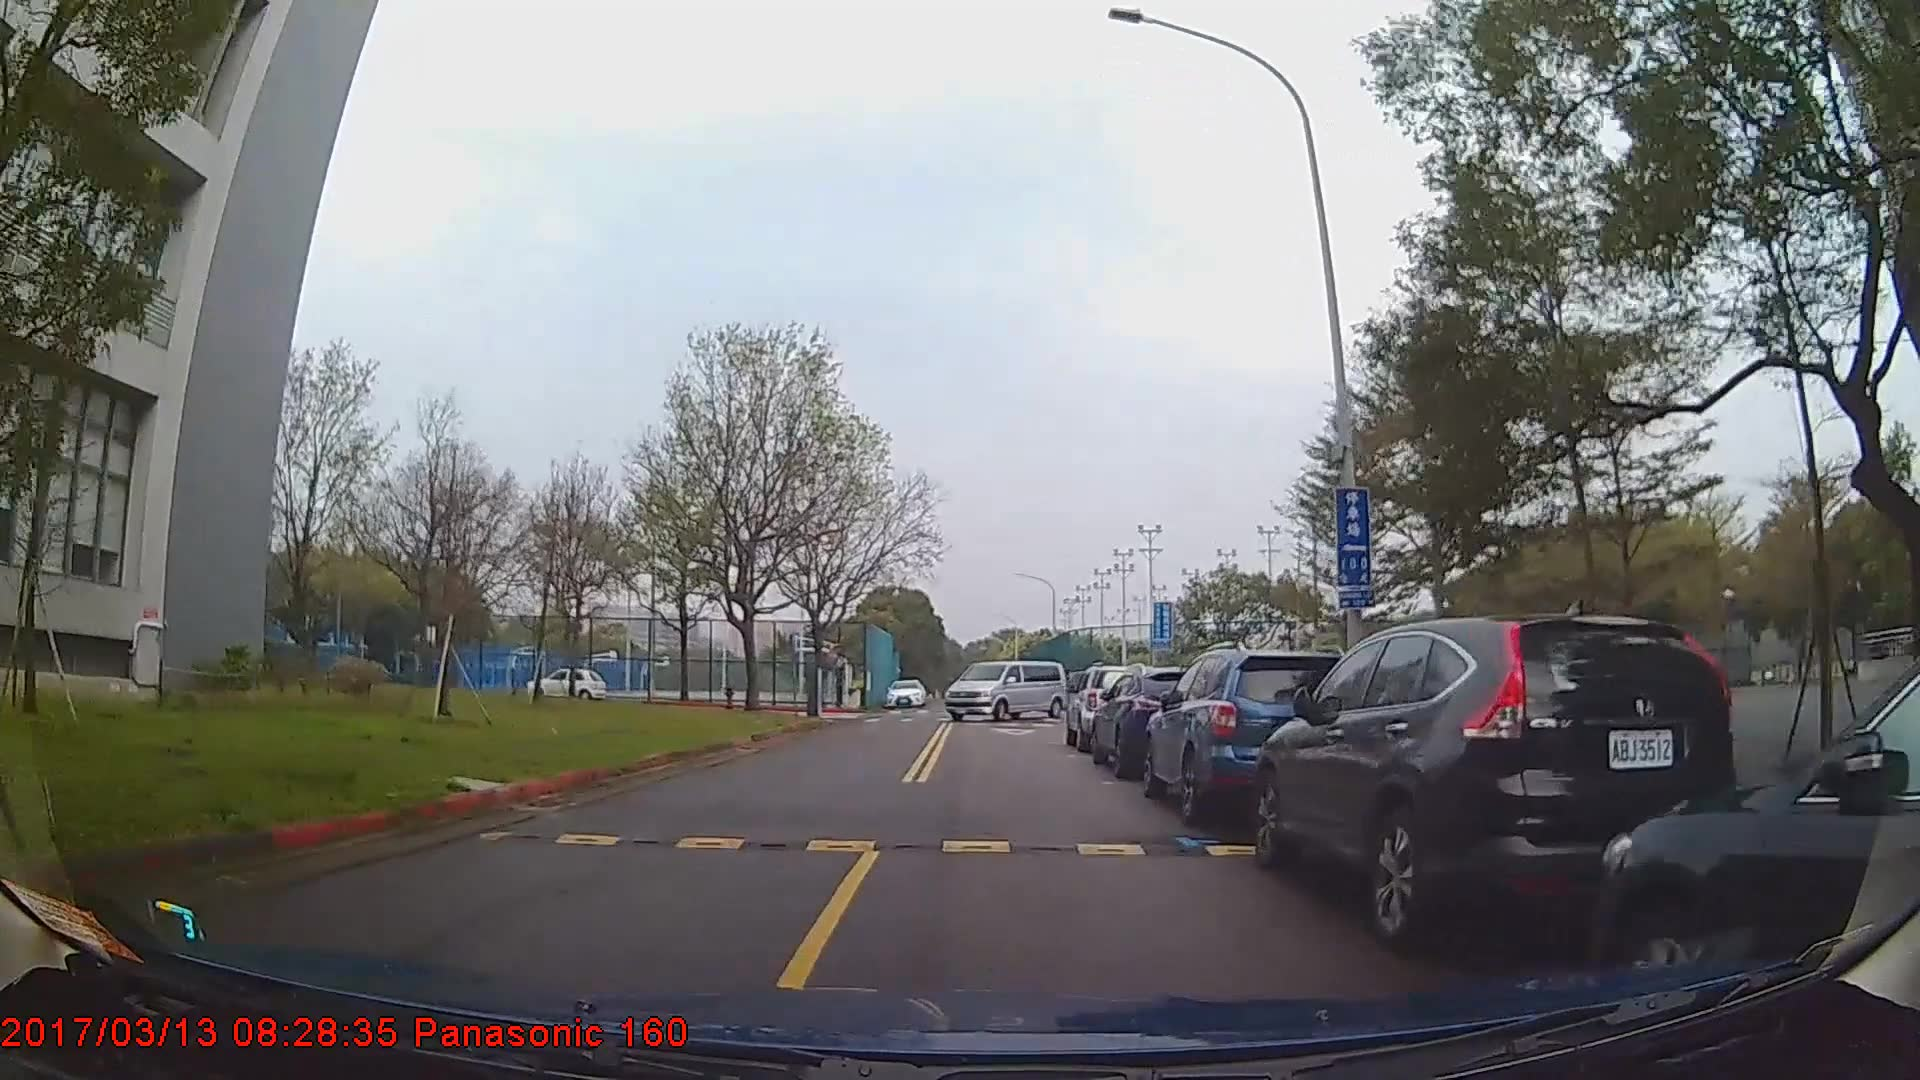vehicle: (1251, 611, 1742, 952), (1586, 655, 1920, 1025), (1139, 647, 1361, 825), (1091, 665, 1218, 778), (944, 659, 1068, 724), (527, 665, 605, 703), (882, 676, 926, 708)
